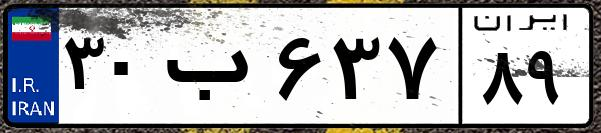0: (110, 28, 158, 98)
3: (330, 28, 385, 110), (57, 26, 110, 100)
6: (270, 28, 330, 110)
7: (385, 28, 445, 110)
8: (475, 38, 525, 113)
9: (525, 38, 570, 115)
ب: (158, 20, 270, 120)
